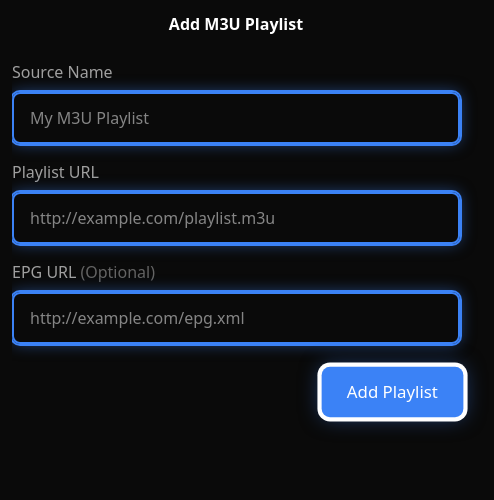
Test: M3UUrlForm › validation › shows error when playlist URL is invalid
This screenshot has width=494, height=500.
In the field with test id "m3u-name-input": (236, 118) x1=12 y1=92 x2=460 y2=144, type "Test"
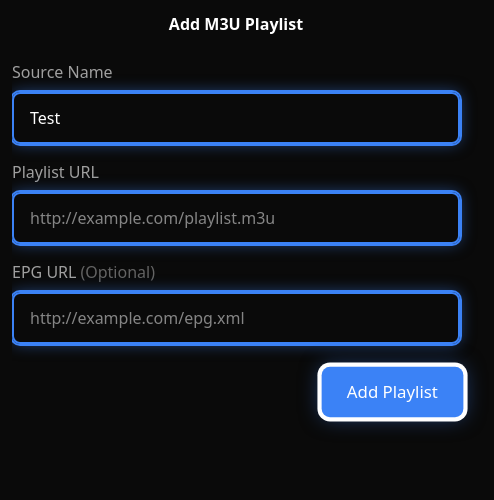
In the field with test id "m3u-playlist-input": (236, 218) x1=12 y1=192 x2=460 y2=244, type "not-a-url"
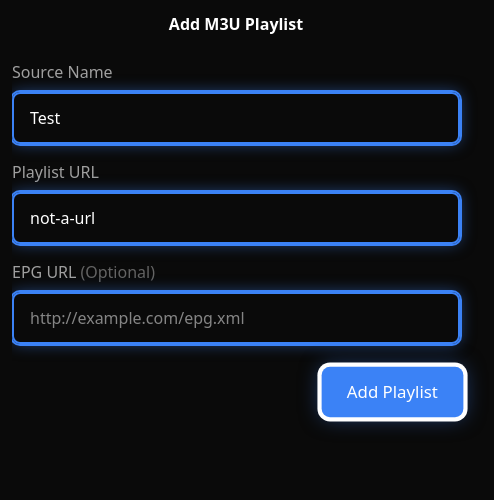
Click the button "Add Playlist": (393, 392) x1=322 y1=367 x2=463 y2=417
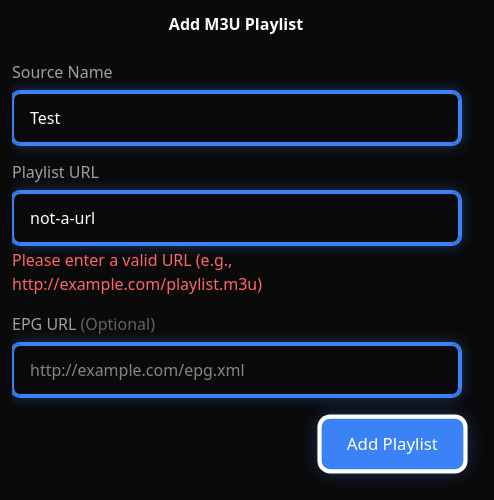
Check: the text "Please enter a valid URL (e.g., http://example.com/playlist.m3u)" is shown, box x1=12 y1=249 x2=262 y2=295
